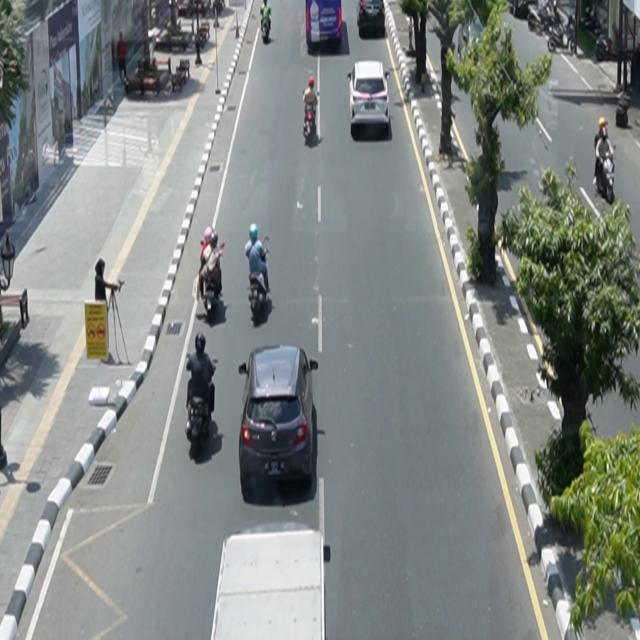bus: (306, 1, 343, 49)
car: (239, 344, 320, 497), (348, 60, 392, 133), (357, 1, 386, 38)
